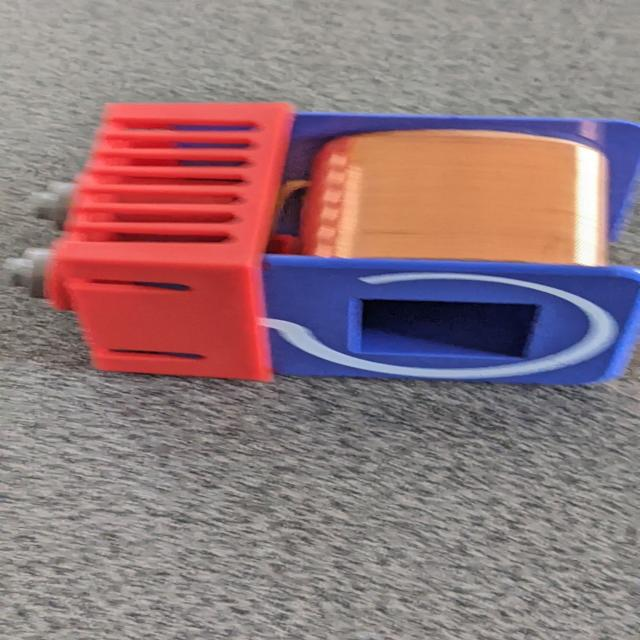Solenoid: (18, 84, 634, 404)
